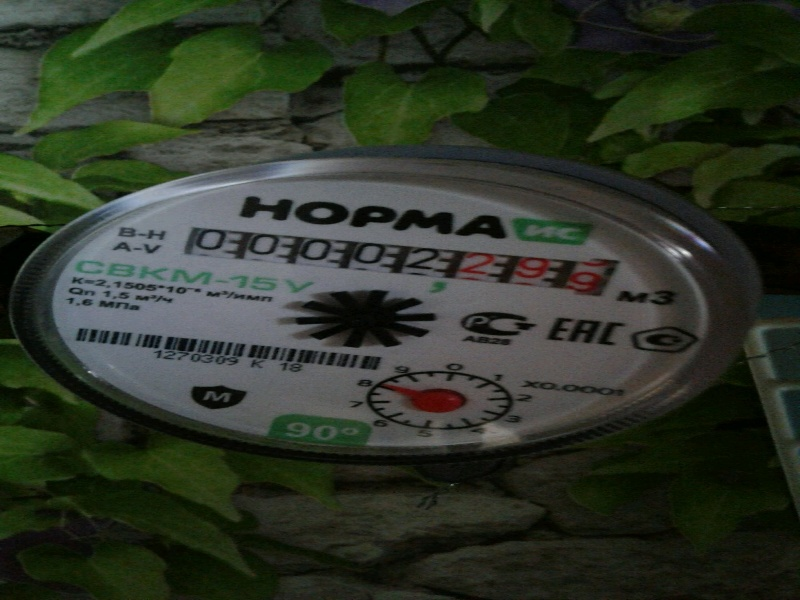meter: (189, 237, 602, 301)
